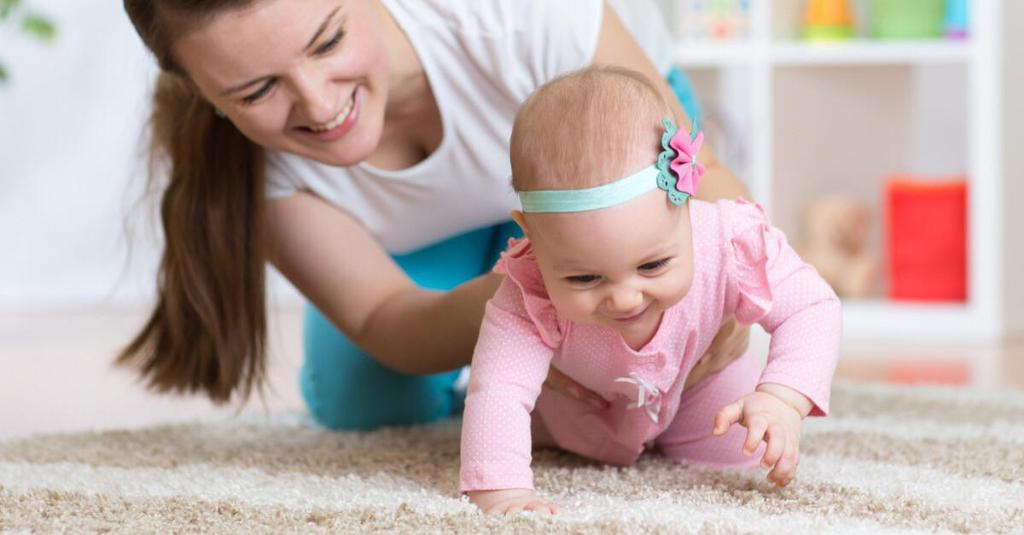child: (427, 57, 852, 505)
